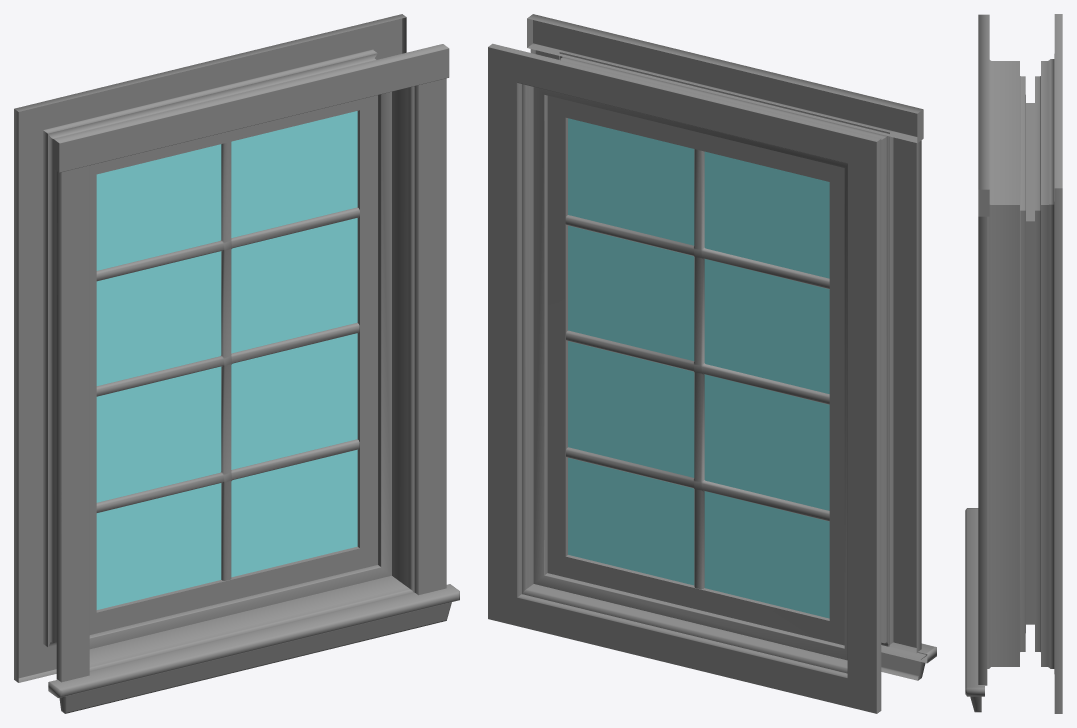
The model's file is Window_single_static.FBX.
3 views of the same model, side by side, from view 1: azimuth 30°, elevation 25°; view 2: azimuth 150°, elevation 25°; view 3: azimuth 270°, elevation 25° (orthographic). The views are drawn at different scales.
Parts seen in each view (by area): view 1: Window_single_static, Windowglass_A; view 2: Window_single_static, Windowglass_A; view 3: Window_single_static.
Part boxes in pixels (x1=…): Window_single_static: x1=14, y1=14, x2=459, y2=713; Windowglass_A: x1=96, y1=111, x2=357, y2=609; Window_single_static: x1=488, y1=14, x2=936, y2=713; Windowglass_A: x1=568, y1=118, x2=829, y2=618; Window_single_static: x1=965, y1=14, x2=1062, y2=713.
Bounding box in the file's own units: 120 × 163 × 27.46.
